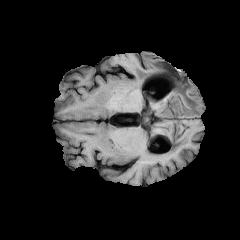glioma: (128, 63, 199, 153)
